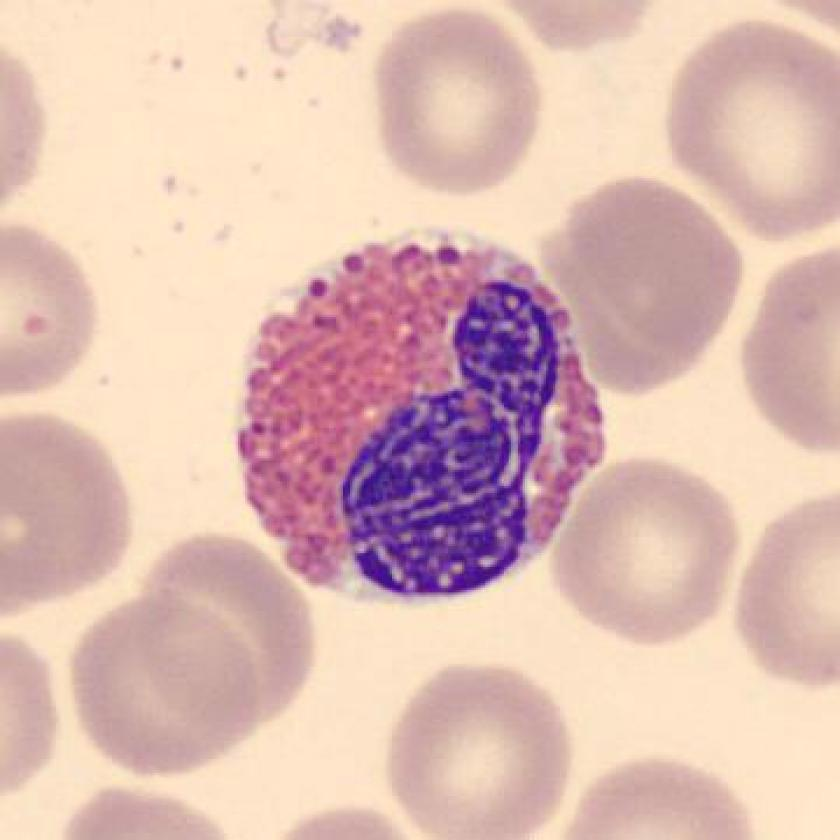eosinophil: (223, 218, 622, 612)
